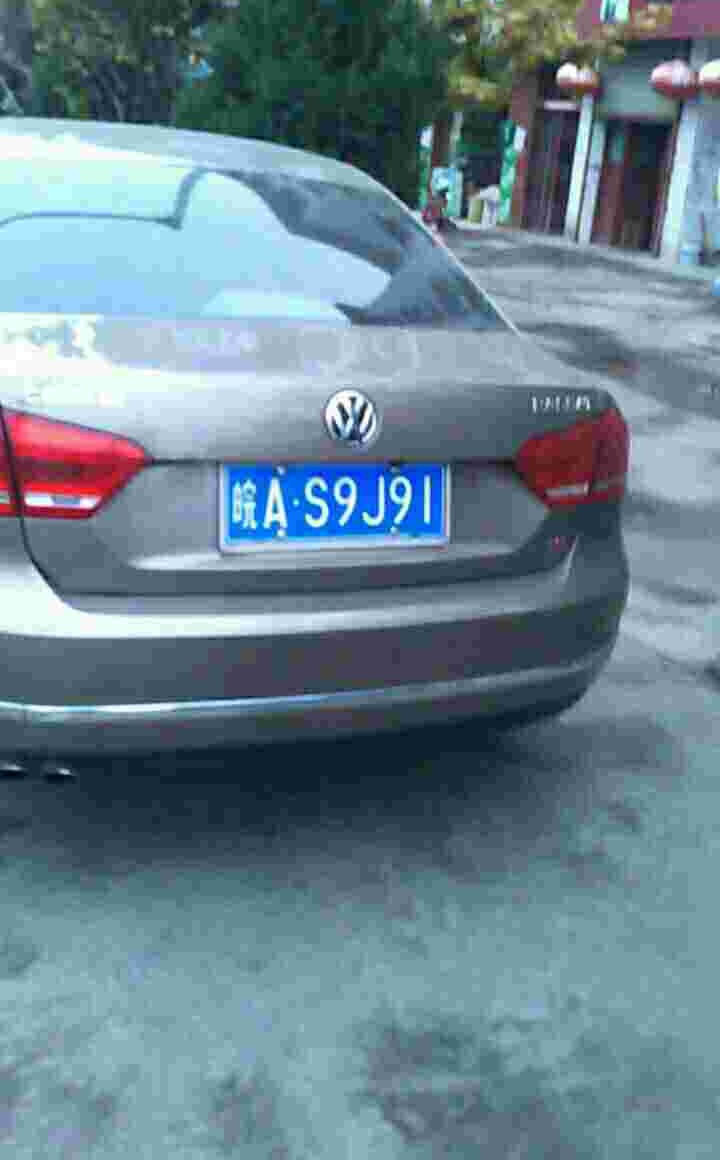plate: (231, 458, 454, 545)
